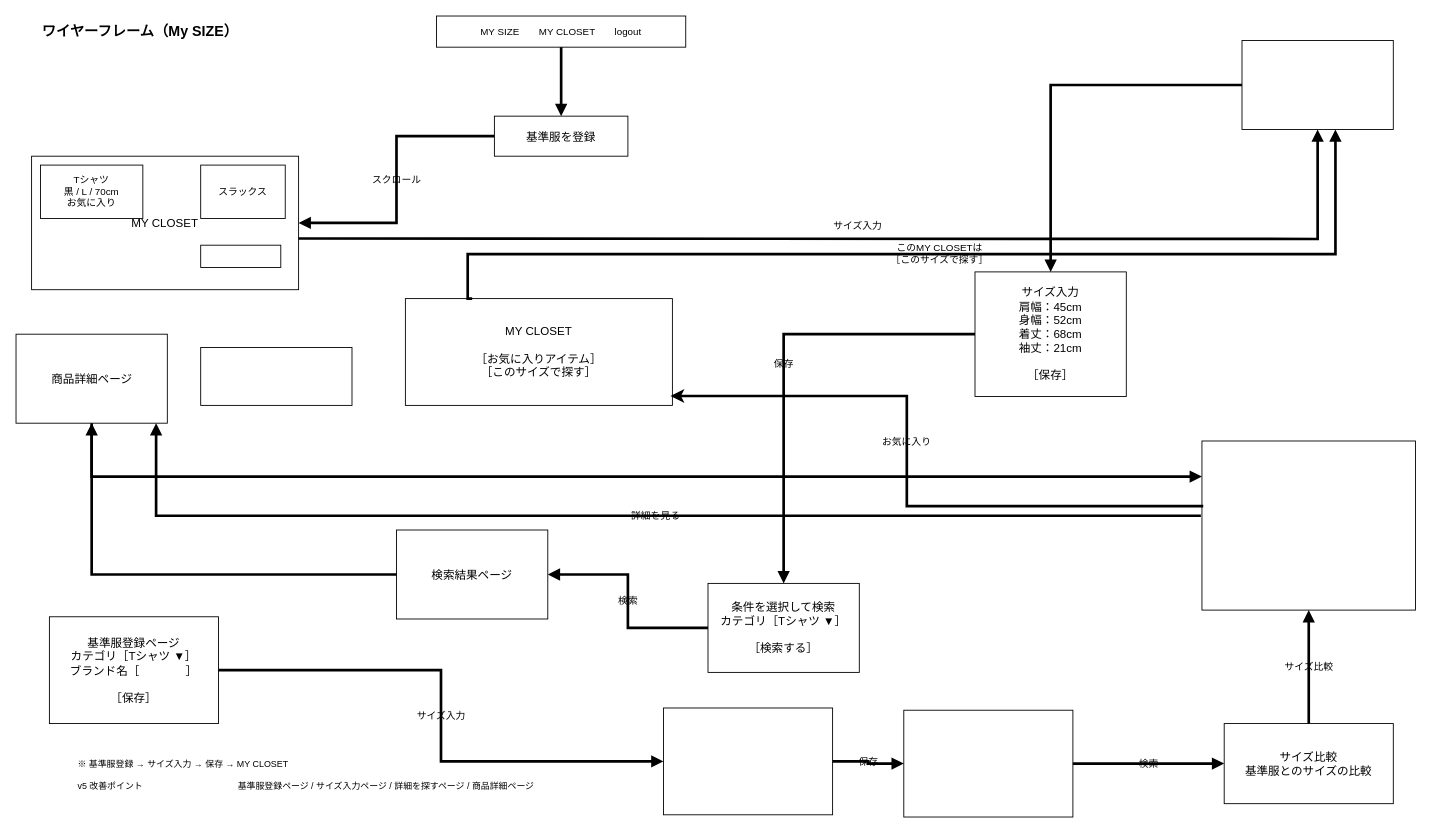
The diagram is 1431 pixels wide and 832 high, and some of its shapes have lost their labels. Each missing label, with the box of its shape:
お気に入り登録 ↓ MY CLOSETへ: (200, 347, 352, 405)
サイズ入力 カテゴリ選択: (1241, 40, 1393, 129)
サイズ入力ページ 身幅［52］cm 着丈［68］cm 肩幅［45］cm 袖丈［21］cm ［保存］: (663, 707, 833, 815)
商品詳細（詳細設定） ブランド：○○ 商品名：○○Tシャツ 価格：¥500 サイズ：M 基準服とのサイズ比較: (1201, 440, 1416, 610)
詳細を探すページ 条件［Tシャツ］ ［検索する］: (903, 709, 1073, 817)
［＋追加］: (200, 244, 281, 267)
